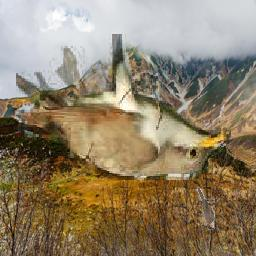Cuckoo: (17, 34, 232, 180), (197, 188, 215, 231)
